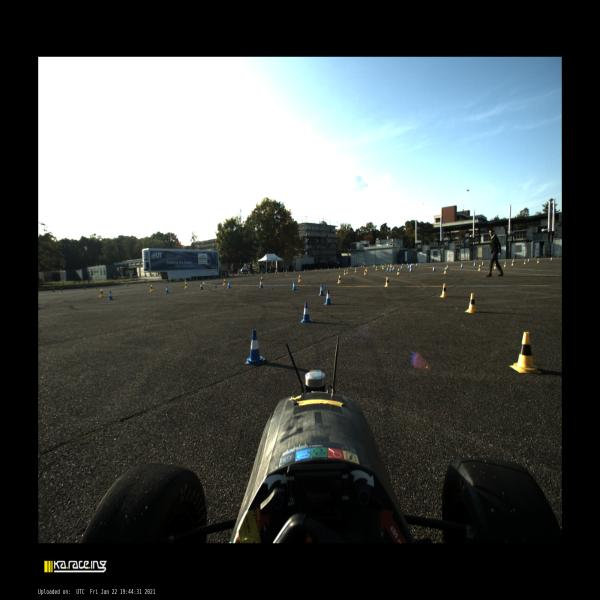blue_cone: (245, 329, 265, 365), (300, 302, 313, 323), (325, 289, 332, 305), (319, 284, 325, 296), (108, 290, 114, 300), (292, 281, 297, 290), (227, 281, 231, 289), (260, 280, 264, 288), (165, 286, 169, 293), (200, 282, 203, 290), (446, 264, 449, 270), (409, 268, 412, 272), (386, 267, 389, 271), (392, 265, 394, 271), (461, 263, 463, 268), (433, 266, 435, 271), (550, 257, 552, 261), (528, 258, 530, 262), (474, 262, 476, 266), (390, 268, 392, 272), (482, 262, 484, 266), (412, 262, 414, 266), (84, 286, 86, 290), (416, 263, 418, 266), (127, 283, 129, 286), (38, 306, 40, 309), (401, 266, 402, 270), (408, 265, 409, 269), (411, 263, 412, 267), (402, 263, 404, 265), (53, 288, 54, 292), (306, 268, 308, 270), (410, 265, 411, 268), (396, 263, 397, 266), (214, 276, 215, 279), (164, 280, 165, 283), (407, 263, 408, 266), (193, 278, 194, 280), (347, 266, 348, 268), (321, 268, 322, 270), (234, 275, 235, 277), (228, 275, 229, 277), (334, 267, 334, 269), (262, 272, 262, 274), (248, 274, 248, 276)
large_orange_cone: (285, 269, 287, 273), (275, 269, 276, 273)
yellow_cone: (510, 332, 541, 374), (465, 293, 479, 313), (439, 283, 448, 297), (385, 277, 389, 287), (99, 289, 104, 297), (150, 285, 154, 292), (338, 275, 341, 284), (298, 274, 301, 282), (260, 277, 264, 283), (184, 282, 188, 288), (397, 269, 400, 275), (364, 269, 367, 275), (223, 280, 226, 286), (478, 265, 481, 271), (494, 263, 497, 269), (511, 260, 514, 266), (444, 268, 446, 274), (344, 270, 346, 275), (355, 268, 357, 273), (375, 266, 377, 271), (504, 262, 506, 267), (346, 269, 348, 274), (524, 260, 526, 264), (537, 259, 539, 263), (60, 288, 62, 292), (304, 268, 306, 272), (382, 266, 384, 270), (390, 264, 392, 268), (184, 279, 186, 282), (148, 281, 149, 285), (366, 267, 367, 271), (238, 275, 240, 277), (96, 286, 97, 289), (208, 277, 209, 280), (339, 266, 340, 269), (381, 264, 382, 267), (223, 276, 224, 278), (327, 268, 328, 270), (373, 265, 374, 267), (385, 264, 386, 266), (388, 264, 389, 266), (315, 268, 316, 270), (350, 266, 351, 268), (362, 265, 363, 267), (363, 265, 364, 267), (266, 272, 266, 274), (278, 271, 278, 274), (294, 270, 294, 272)
